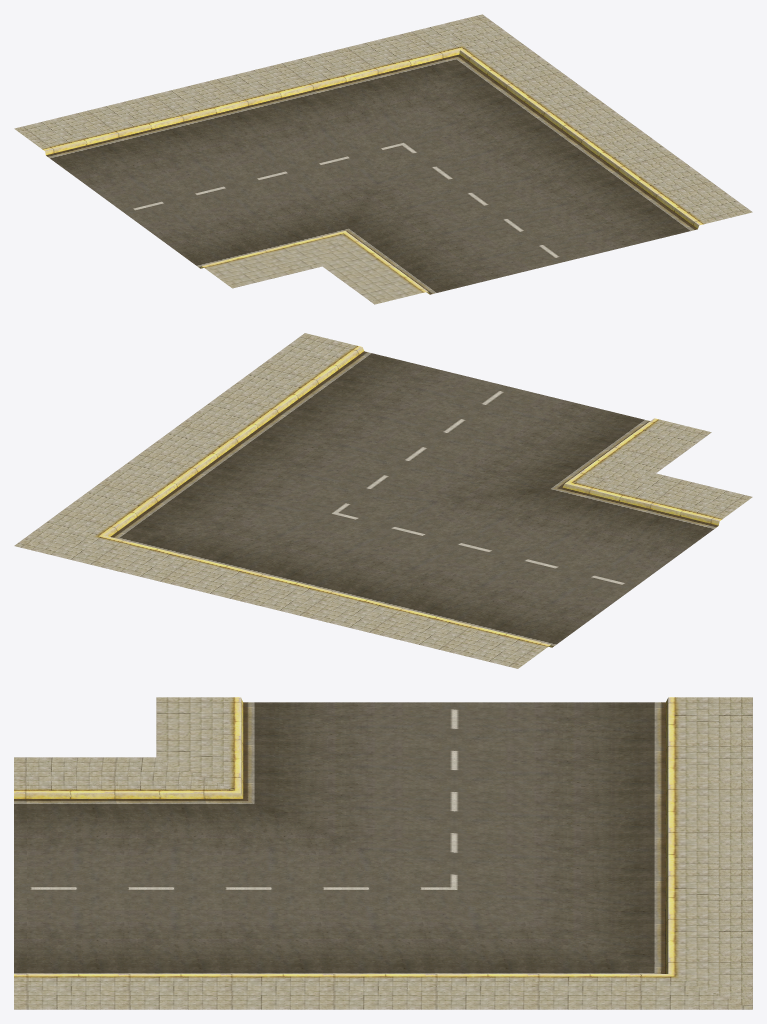
The model's file is Road3_Corner_C.fbx.
The picture shows the model from 3 angles, top to bottom: view 1: azimuth 30°, elevation 25°; view 2: azimuth 150°, elevation 25°; view 3: azimuth 270°, elevation 25°; orthographic projection. The views are drawn at different scales.
Parts seen in each view (by area): view 1: Road_Corner_C; view 2: Road_Corner_C; view 3: Road_Corner_C.
Boxes of the visible parts, box(x1,y1,x2,y2) form: Road_Corner_C: box(14, 14, 752, 304); Road_Corner_C: box(14, 333, 752, 668); Road_Corner_C: box(14, 697, 752, 1009).
Size of the model in its own units: 2793 by 20.38 by 2793.
